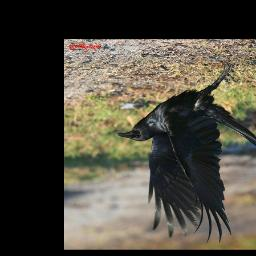Crow: (116, 60, 256, 245)
